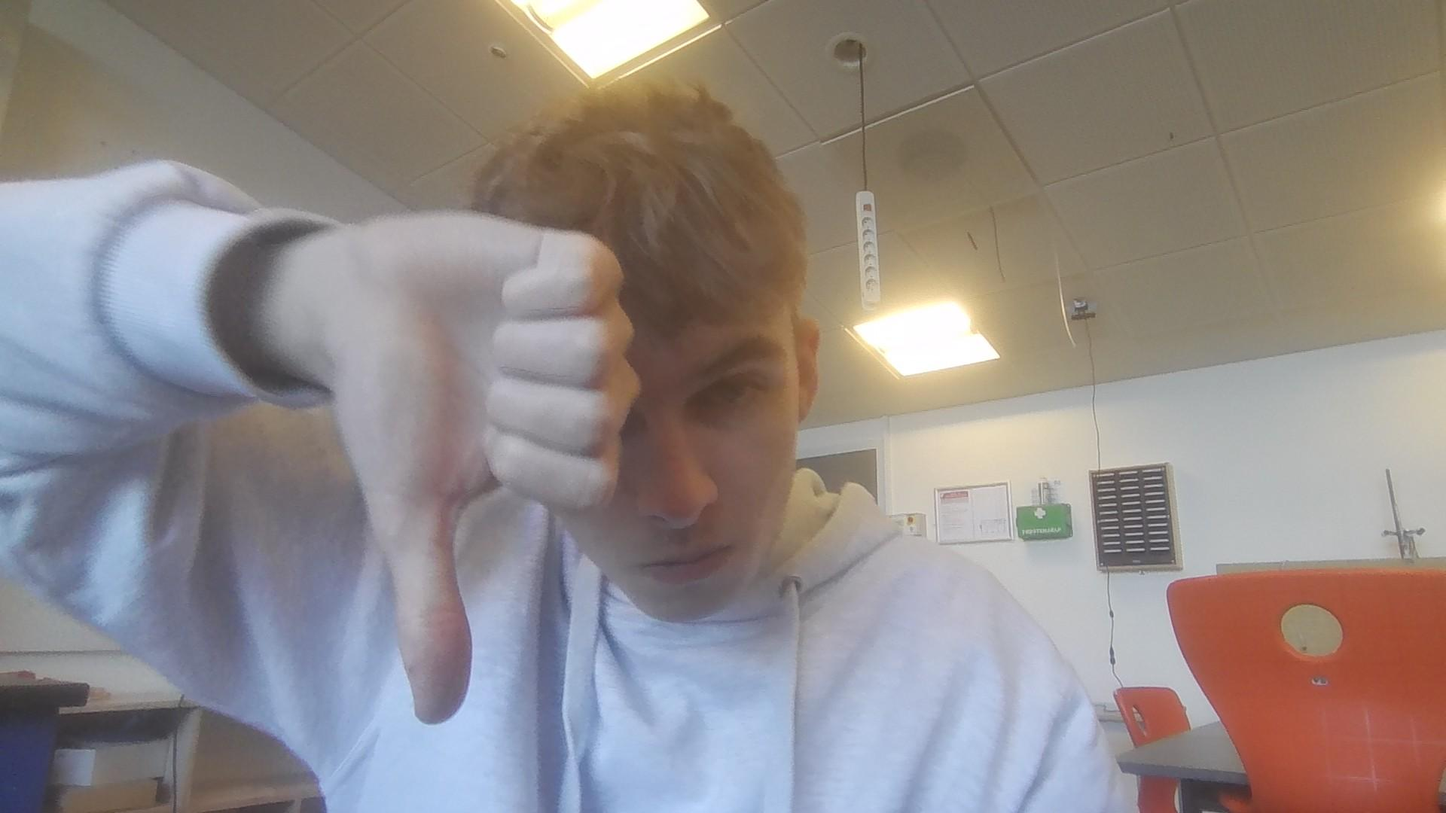thumbs down: (325, 201, 633, 731)
